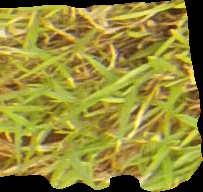grass: (1, 1, 201, 190)
